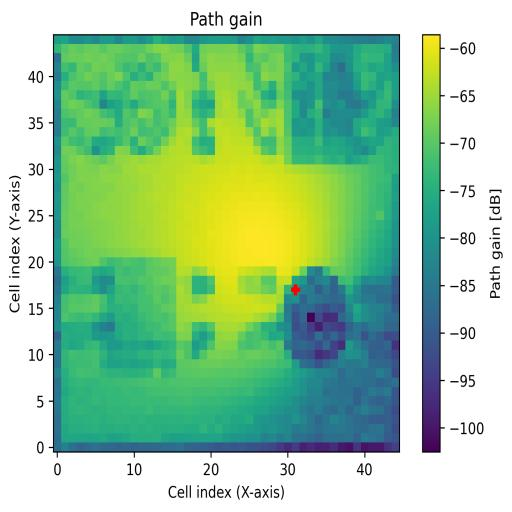Concrete: (284, 52, 368, 164)
Glass: (77, 54, 175, 154)
Metal: (276, 267, 354, 370)
Wood: (100, 256, 177, 378)
